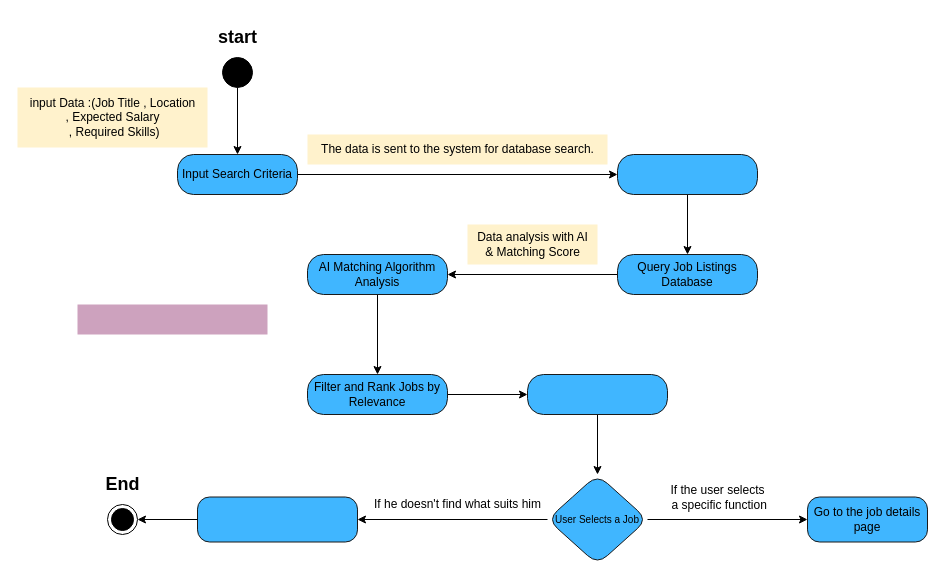
Image size: 945x582. Some labels were removed from this diagram. Each missing label, with the box of its shape:
Activity Diagram for Job search: (77, 304, 267, 334)
Display Matching Jobs List: (526, 374, 668, 414)
He can modify the search or close the process.: (196, 496, 358, 542)
Send Search Request to System: (616, 154, 758, 194)
